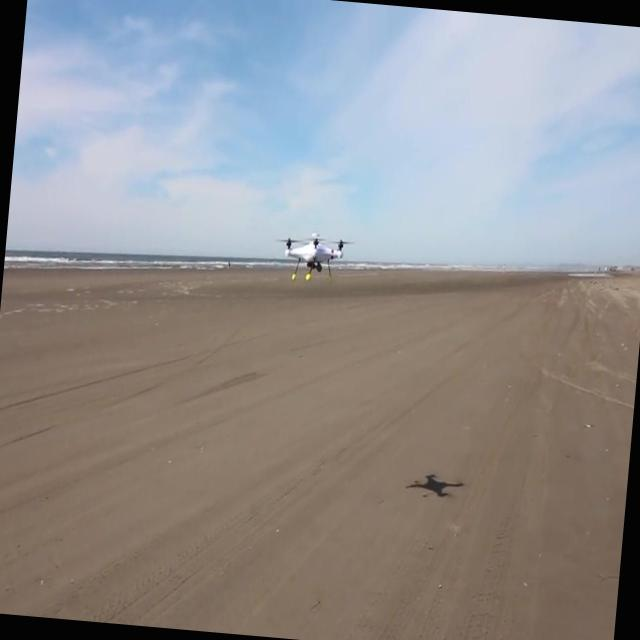drone: (276, 228, 350, 286)
